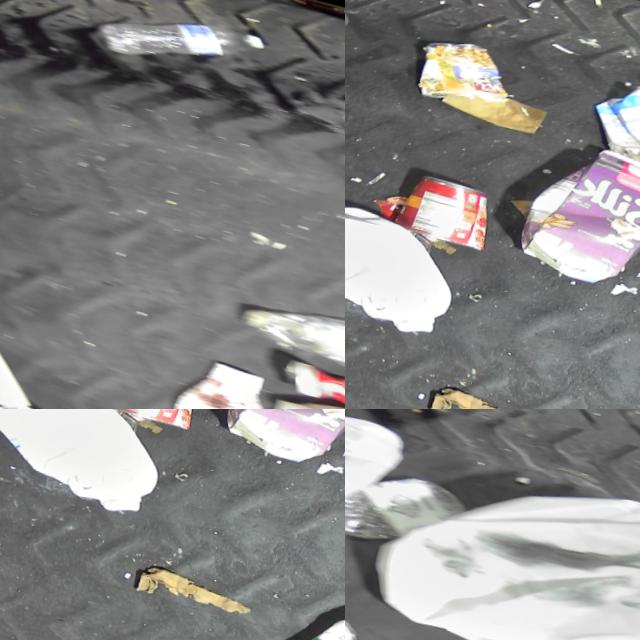can: (414, 29, 518, 115), (391, 167, 497, 250), (97, 409, 202, 429)
milk_jug: (364, 432, 640, 640), (0, 409, 171, 520), (345, 189, 465, 341)
non_white_jug: (509, 128, 640, 295), (215, 409, 345, 474)
plastic_bottle: (345, 442, 489, 566), (87, 0, 269, 87), (226, 280, 345, 402)
